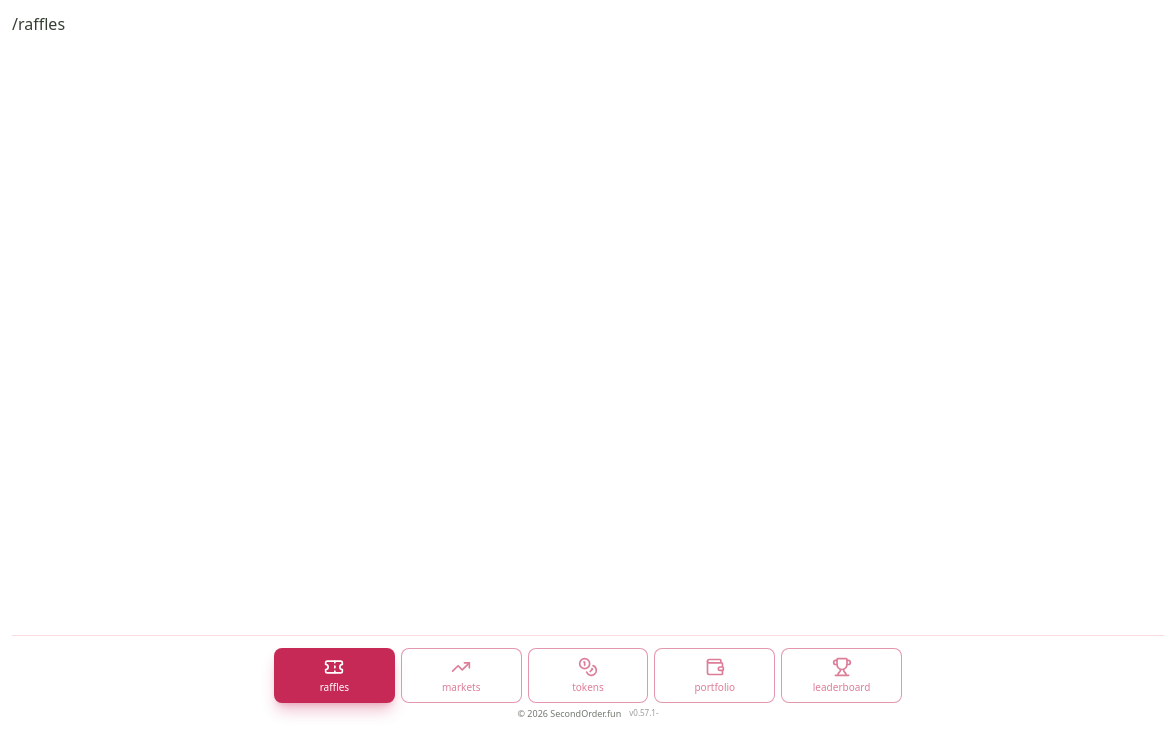
Test: BottomNav › navigates to /tokens from the Tokens tab
Step 1. Click the button "tokens" → (588, 675), box [528, 648, 648, 702]
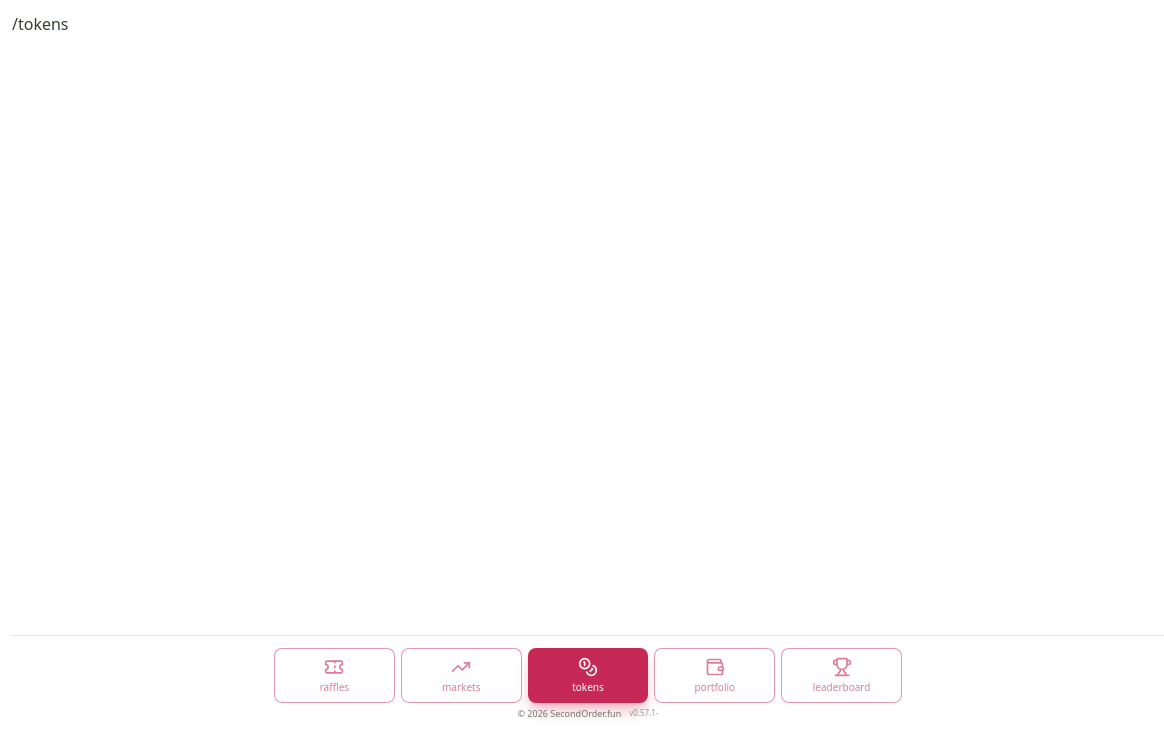
Expected: the text with test id "where" reads "/tokens", [12, 13, 68, 35]
